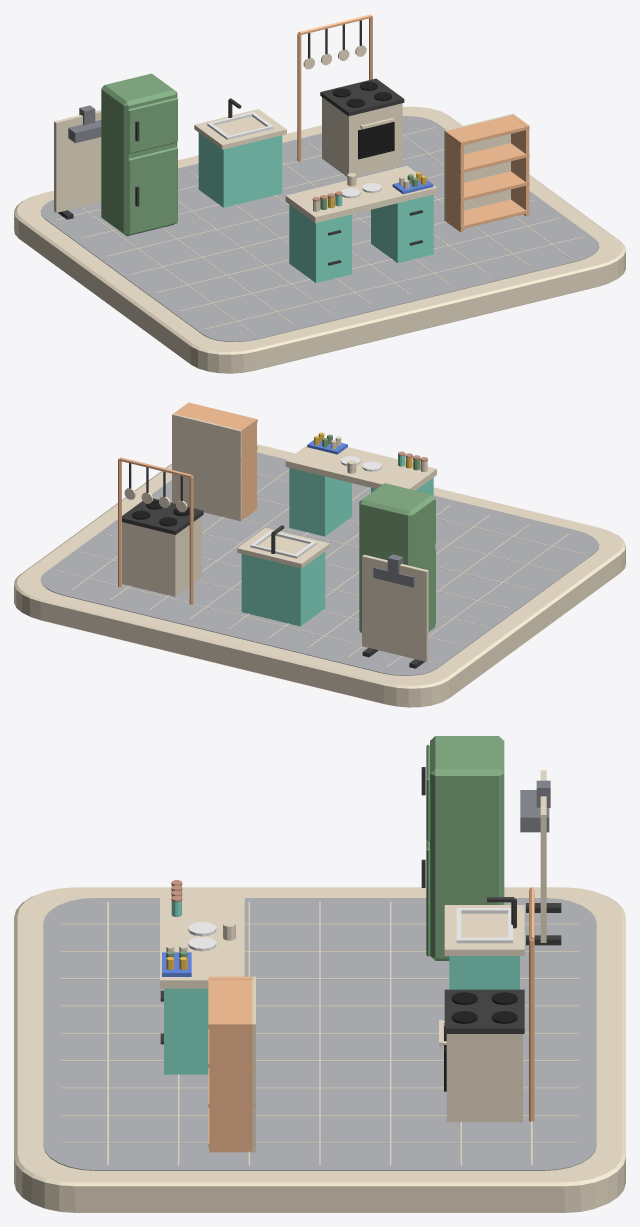
The picture shows the model from 3 angles, top to bottom: view 1: azimuth 30°, elevation 25°; view 2: azimuth 150°, elevation 25°; view 3: azimuth 270°, elevation 25°; orthographic projection. The views are drawn at different scales.
Visible parts, largest first — view 1: COM-02 Floor Surface, COM-01 Rounded Base Direct, Cabinet, Cabinet.001, Stove, Door, Panel, Storage module, Storage module.001, Worktop, Door.001, Counter (+12 smaller); view 2: COM-02 Floor Surface, COM-01 Rounded Base Direct, Cabinet, Back, Panel, Cabinet.001, Stove, Worktop, Storage module.001, Counter, Side, Hob (+4 smaller); view 3: COM-02 Floor Surface, COM-01 Rounded Base Direct, Cabinet, Stove, Worktop, Side.001, Storage module.001, Counter, Hob, Cabinet.001, Shelf.003, Panel (+9 smaller).
Part boxes in pixels (x1=…): COM-02 Floor Surface: x1=40, y1=116, x2=599, y2=341; COM-01 Rounded Base Direct: x1=14, y1=106, x2=625, y2=373; Cabinet: x1=101, y1=73, x2=177, y2=236; Cabinet.001: x1=198, y1=133, x2=282, y2=207; Stove: x1=322, y1=97, x2=402, y2=176; Door: x1=128, y1=147, x2=177, y2=234; Panel: x1=54, y1=110, x2=101, y2=212; Storage module: x1=289, y1=204, x2=351, y2=282; Storage module.001: x1=371, y1=194, x2=433, y2=262; Worktop: x1=285, y1=166, x2=436, y2=223; Door.001: x1=128, y1=97, x2=177, y2=153; Counter: x1=194, y1=109, x2=286, y2=149; COM-02 Floor Surface: x1=40, y1=452, x2=599, y2=675; COM-01 Rounded Base Direct: x1=14, y1=444, x2=625, y2=707; Cabinet: x1=359, y1=483, x2=435, y2=633; Back: x1=172, y1=413, x2=241, y2=521; Panel: x1=362, y1=554, x2=428, y2=661; Cabinet.001: x1=241, y1=551, x2=325, y2=626; Stove: x1=122, y1=516, x2=201, y2=596; Worktop: x1=285, y1=445, x2=436, y2=490; Storage module.001: x1=289, y1=468, x2=351, y2=536; Counter: x1=237, y1=527, x2=329, y2=568; Side: x1=239, y1=418, x2=256, y2=520; Hob: x1=122, y1=498, x2=203, y2=534; COM-02 Floor Surface: x1=43, y1=898, x2=596, y2=1170; COM-01 Rounded Base Direct: x1=14, y1=887, x2=625, y2=1212; Cabinet: x1=430, y1=736, x2=504, y2=960; Stove: x1=446, y1=1034, x2=522, y2=1122; Worktop: x1=160, y1=895, x2=244, y2=988; Side.001: x1=209, y1=1022, x2=253, y2=1152; Storage module.001: x1=164, y1=988, x2=208, y2=1074; Counter: x1=444, y1=905, x2=524, y2=955; Hob: x1=444, y1=989, x2=524, y2=1033; Cabinet.001: x1=449, y1=956, x2=519, y2=989; Shelf.003: x1=208, y1=976, x2=254, y2=1028; Panel: x1=540, y1=770, x2=546, y2=942.
Bounding box in the file's own units: 6 × 2.1 × 5.2.
1 material, 1 textured.
